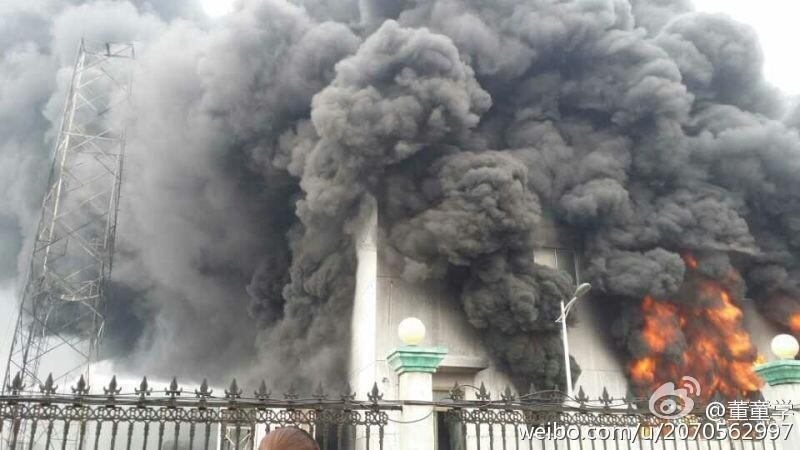fire: (627, 262, 766, 396)
